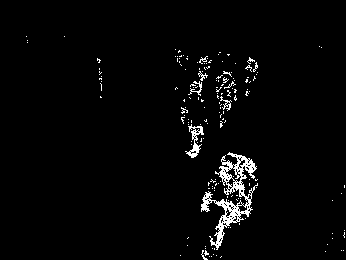person: (180, 80, 211, 162), (215, 67, 238, 129), (242, 53, 259, 98)
